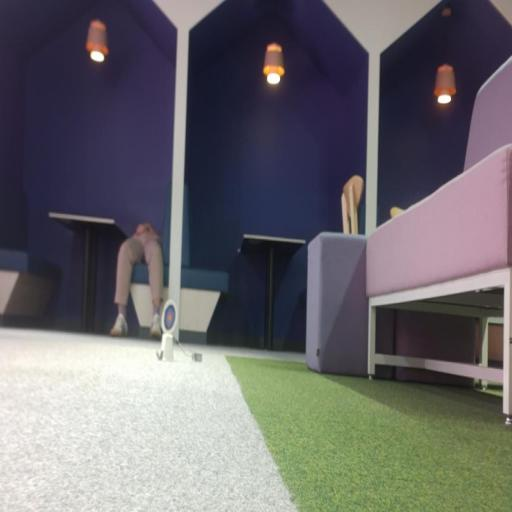target: (160, 299, 177, 336)
